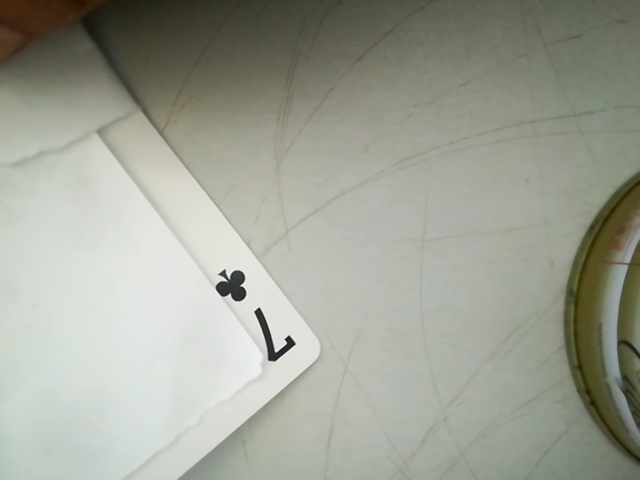mh 7: (221, 262, 294, 374)
